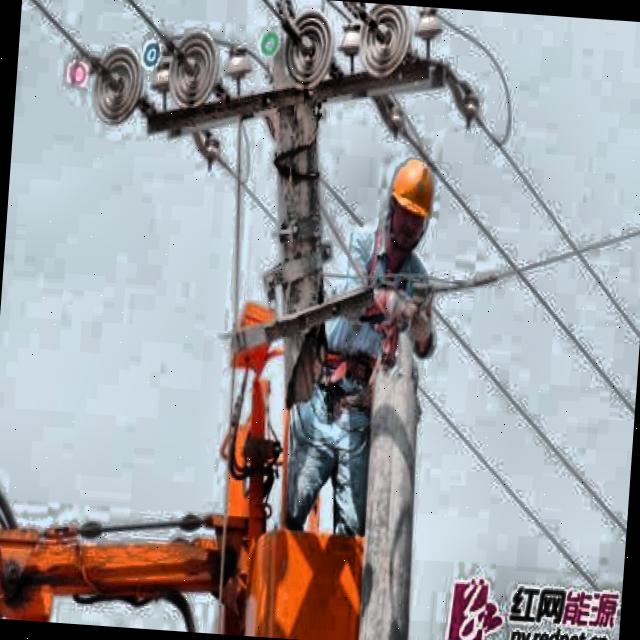helmet: (376, 140, 442, 268)
